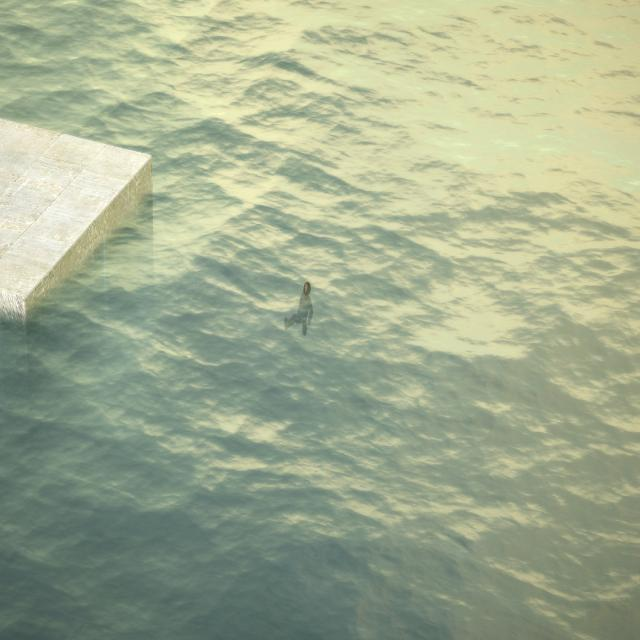Human: (282, 275, 314, 336)
